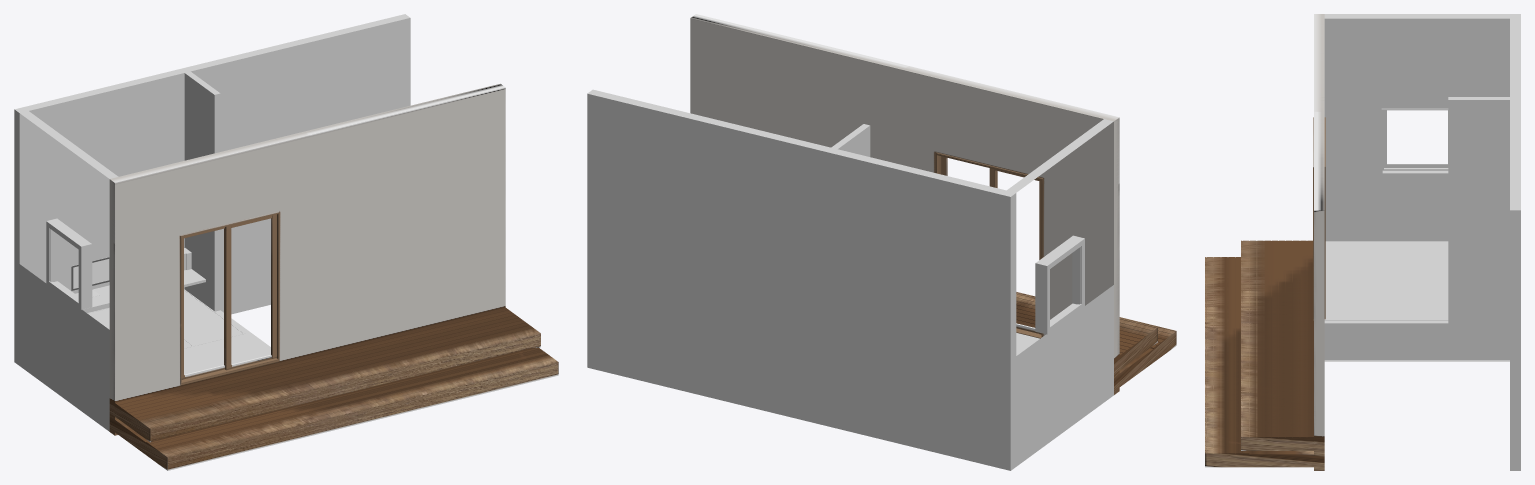
3 renders of one model, left to right at view 1: azimuth 30°, elevation 25°; view 2: azimuth 150°, elevation 25°; view 3: azimuth 270°, elevation 25°, orthographic. The views are drawn at different scales.
Parts seen in each view (by area): view 1: 1.wall.002, 1.wall.001, 1.wall, 4-2.deck, 4-2.deck.002, 1.wall.003, 3.window.001, 2.floor.004, 2.floor.003, 4.deck.003, 4.deck.012, 4.deck.015 (+19 smaller); view 2: 1.wall.001, 1.wall.002, 1.wall, 3-2.window, 4.deck.011, 3.window.003, 立方体.001, 1.wall.003; view 3: 1.wall, 1.wall.003, 2.floor, 1.wall.002, 1.wall.001, 2.floor.001, 2.floor.004, 2.floor.003, 4.deck.011, 3.floor.005, 4.deck.013, 4.deck.003 (+18 smaller).
Boxes of the visible parts, x1,y1,x2,y2 form: 1.wall.002: (109,83,505,435); 1.wall.001: (14,14,410,365); 1.wall: (19,111,118,431); 4-2.deck: (149,333,540,442); 4-2.deck.002: (167,361,558,470); 1.wall.003: (184,71,220,311); 3.window.001: (225,214,276,370); 2.floor.004: (184,333,270,374); 2.floor.003: (184,289,243,345); 4.deck.003: (139,325,532,423); 4.deck.012: (163,359,557,457); 4.deck.015: (153,351,546,449); 1.wall.001: (587,89,1016,470); 1.wall.002: (690,14,1119,394); 1.wall: (1007,119,1113,466); 3-2.window: (1035,235,1084,334); 4.deck.011: (1119,332,1176,386); 3.window.003: (936,152,1043,338); 立方体.001: (1047,240,1084,332); 1.wall.003: (831,124,870,156); 1.wall: (1324,14,1509,241); 1.wall.003: (1448,97,1509,323); 2.floor: (1324,320,1509,360); 1.wall.002: (1314,14,1324,470); 1.wall.001: (1510,14,1520,470); 2.floor.001: (1325,241,1448,267); 2.floor.004: (1324,267,1386,320); 2.floor.003: (1386,293,1448,320); 4.deck.011: (1206,451,1313,467); 3.floor.005: (1386,267,1448,293); 4.deck.013: (1213,257,1220,454); 4.deck.003: (1256,240,1263,437).
Bounding box in the file's own units: 6.49 × 4 × 4.4.
Materials: 3 (1 with a texture image).
